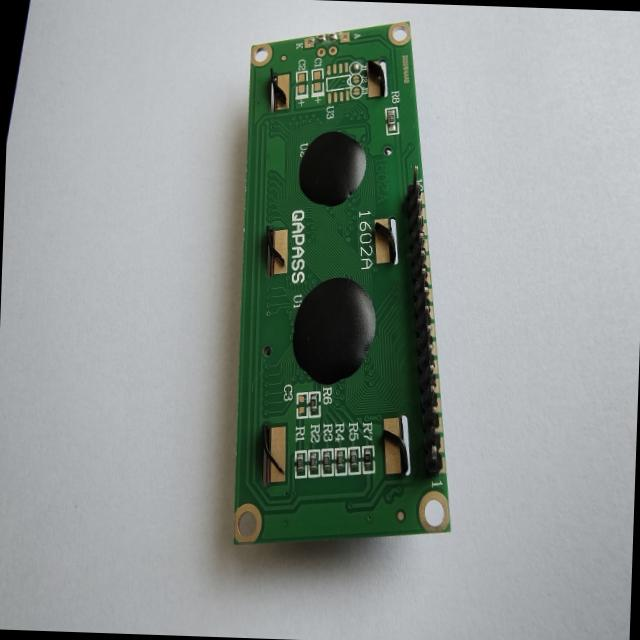lcd: (230, 14, 468, 552)
